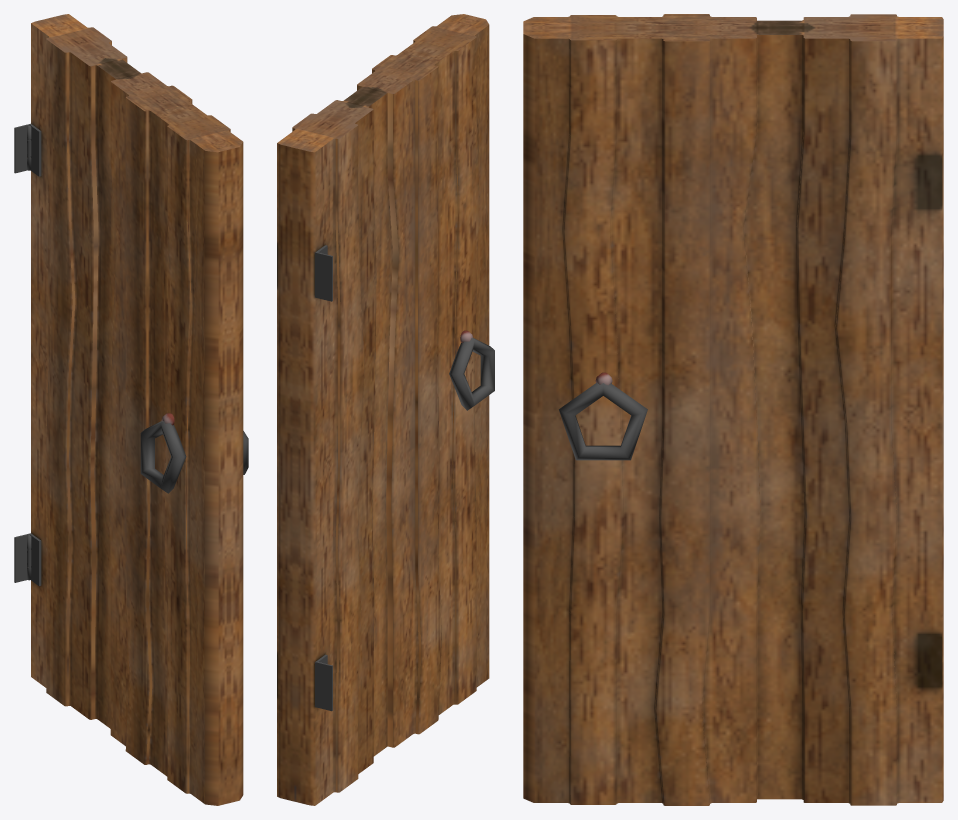
Rendered from Door.glb.
3 renders of one model, left to right at view 1: azimuth 30°, elevation 25°; view 2: azimuth 150°, elevation 25°; view 3: azimuth 270°, elevation 25°, orthographic. The views are drawn at different scales.
Visible parts, largest first — view 1: Sphere; view 2: Sphere; view 3: Sphere.
Boxes of the visible parts, <box> form: Sphere: <box>14,14,248,805</box>; Sphere: <box>277,14,494,805</box>; Sphere: <box>523,14,943,805</box>.
Size of the model in its own units: 0.2814 by 2 by 0.9967.
Materials: 1 (1 with a texture image).
